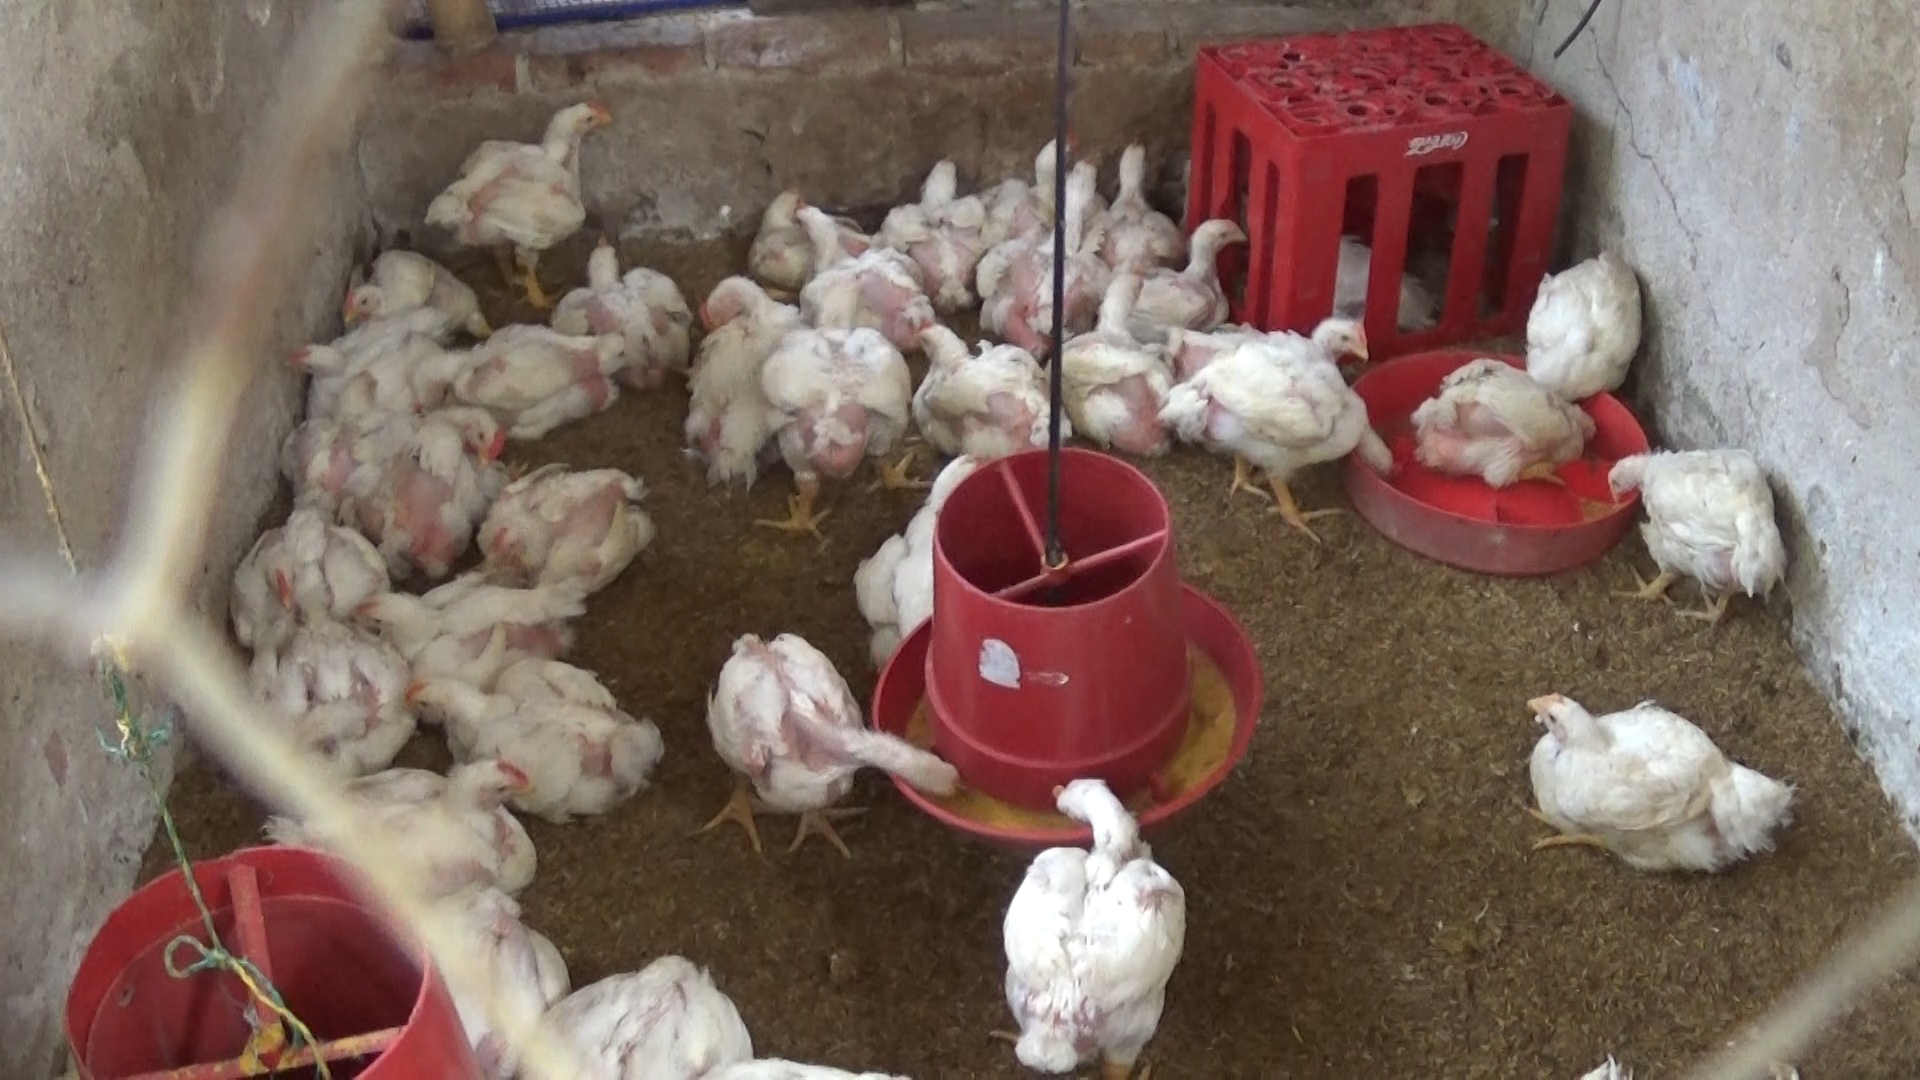Pollos: (1497, 676, 1805, 895), (985, 769, 1197, 1072), (686, 615, 934, 837), (1168, 298, 1389, 531), (421, 87, 632, 320), (410, 646, 669, 816), (1585, 434, 1803, 626), (669, 258, 807, 504), (315, 738, 545, 886), (363, 535, 604, 669), (534, 938, 757, 1080), (861, 415, 994, 651), (248, 587, 421, 767), (1396, 349, 1594, 497), (773, 313, 913, 520), (1050, 255, 1187, 456), (367, 392, 525, 566), (1506, 241, 1671, 406), (483, 456, 661, 587), (241, 371, 388, 524), (996, 160, 1131, 322), (450, 315, 636, 433), (910, 314, 1063, 454), (793, 199, 936, 347), (562, 228, 699, 382), (231, 509, 388, 634), (285, 326, 483, 411), (891, 146, 1001, 301), (339, 247, 495, 343), (1133, 193, 1251, 314), (976, 109, 1079, 244), (1104, 127, 1182, 272), (750, 148, 814, 265)
